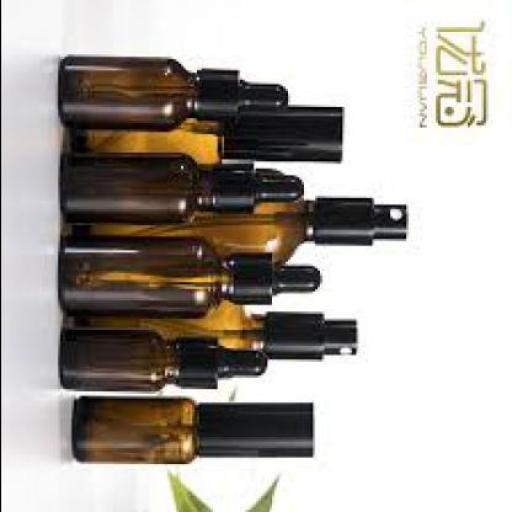glass: (70, 176, 316, 266), (60, 234, 234, 316), (59, 149, 217, 221), (73, 299, 268, 350), (62, 57, 200, 128), (73, 396, 198, 462), (73, 116, 225, 164), (59, 328, 177, 387)
plastic: (191, 398, 314, 455), (223, 103, 346, 159), (198, 68, 292, 122), (232, 251, 323, 302), (212, 162, 305, 211), (266, 310, 359, 358), (314, 196, 407, 244), (175, 338, 264, 386)
